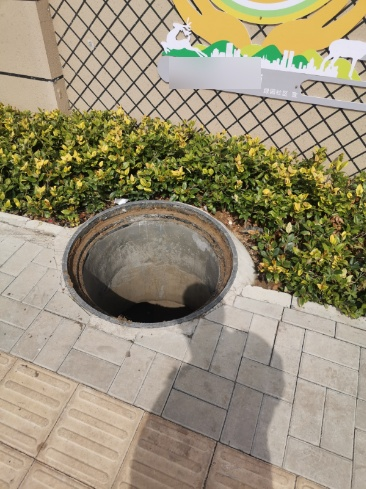lose: (62, 200, 238, 329)
